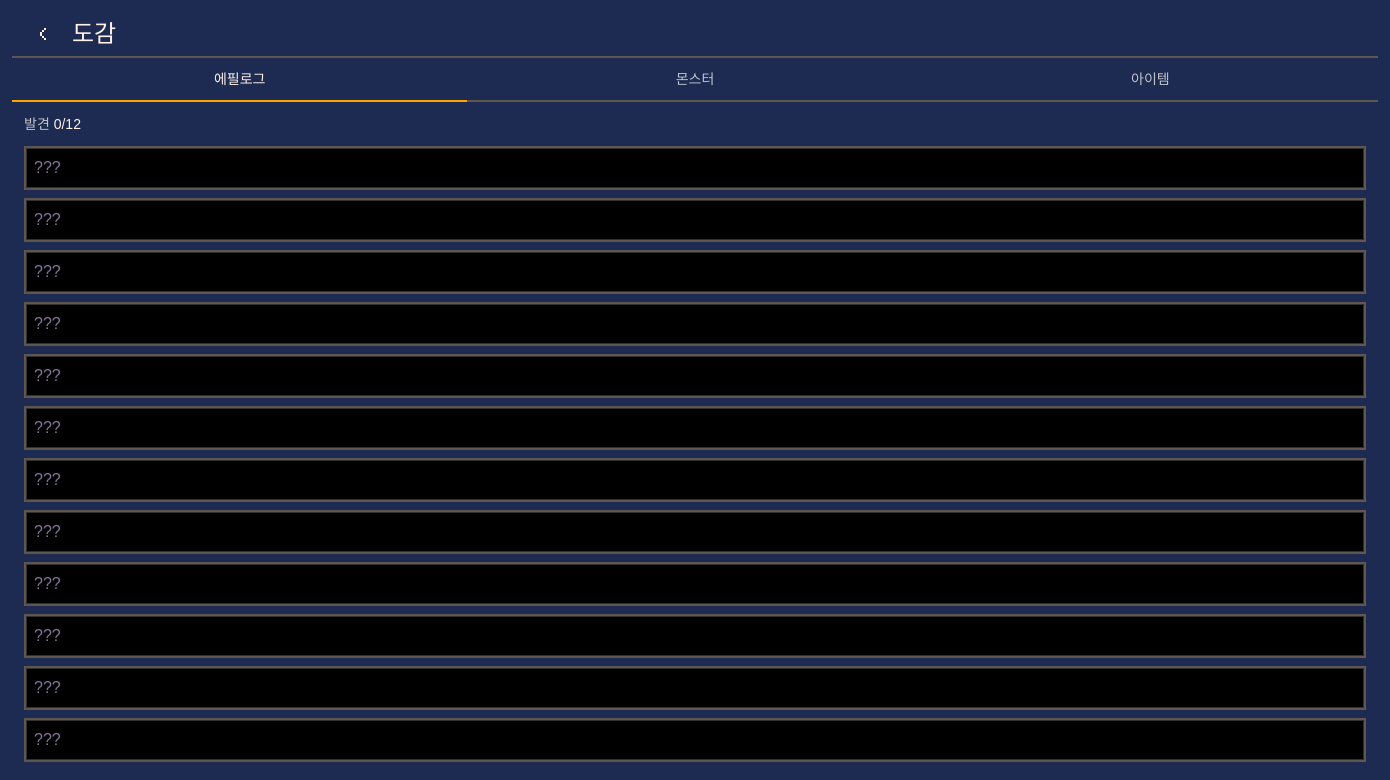
Scenario: monsters tab names discovered monsters and hides the rest behind ???
Click the tab "몬스터" at (695, 80), box top-left (467, 58), bottom-right (923, 102)
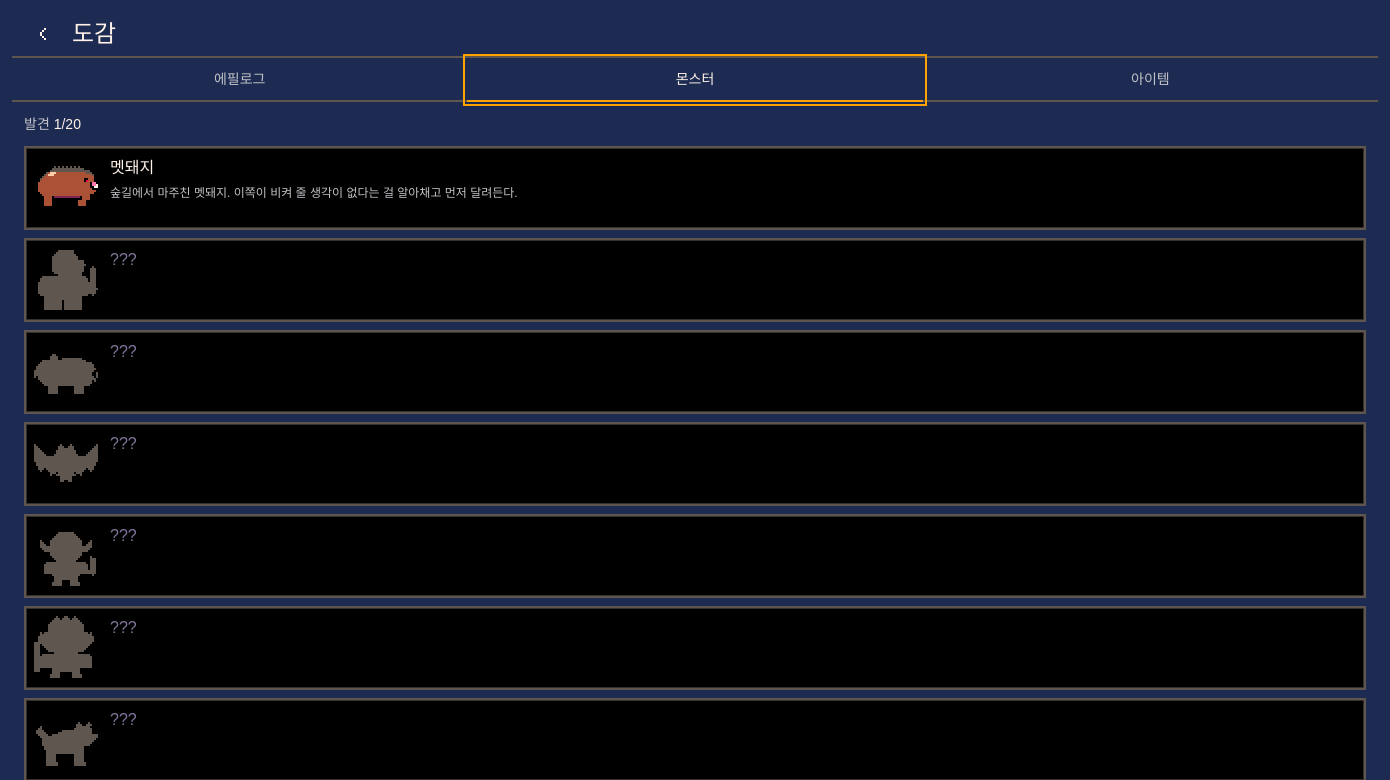
Expected: the text "멧돼지" is shown, top-left (110, 156), bottom-right (154, 180)
Expected: the text "???" is shown 19 times
Expected: the text "1/20" is shown, top-left (54, 116), bottom-right (81, 132)
